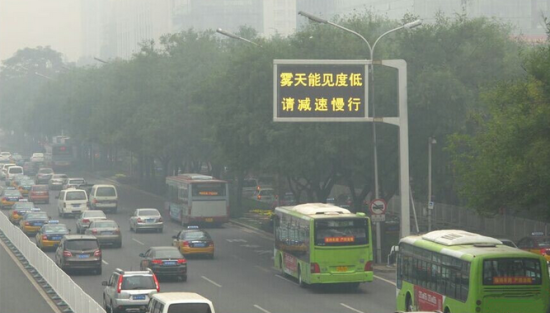bus: (388, 230, 550, 313), (269, 203, 374, 288), (163, 173, 231, 227), (41, 143, 74, 173)
car: (101, 268, 162, 313), (54, 234, 103, 274), (138, 245, 187, 281), (140, 292, 216, 313), (171, 225, 215, 260), (509, 232, 550, 269), (35, 220, 72, 252), (83, 220, 122, 248), (55, 188, 90, 218), (87, 184, 118, 215), (18, 208, 52, 236), (129, 208, 164, 233), (7, 199, 38, 226), (75, 210, 108, 235), (61, 177, 88, 202), (230, 178, 260, 199), (73, 182, 99, 206), (251, 189, 280, 209), (1, 186, 23, 210), (27, 184, 50, 204), (16, 177, 38, 197), (33, 168, 55, 187), (4, 166, 24, 186), (47, 174, 69, 191), (9, 174, 29, 191), (1, 164, 18, 181), (30, 151, 47, 165), (7, 153, 22, 167), (1, 151, 12, 163)
